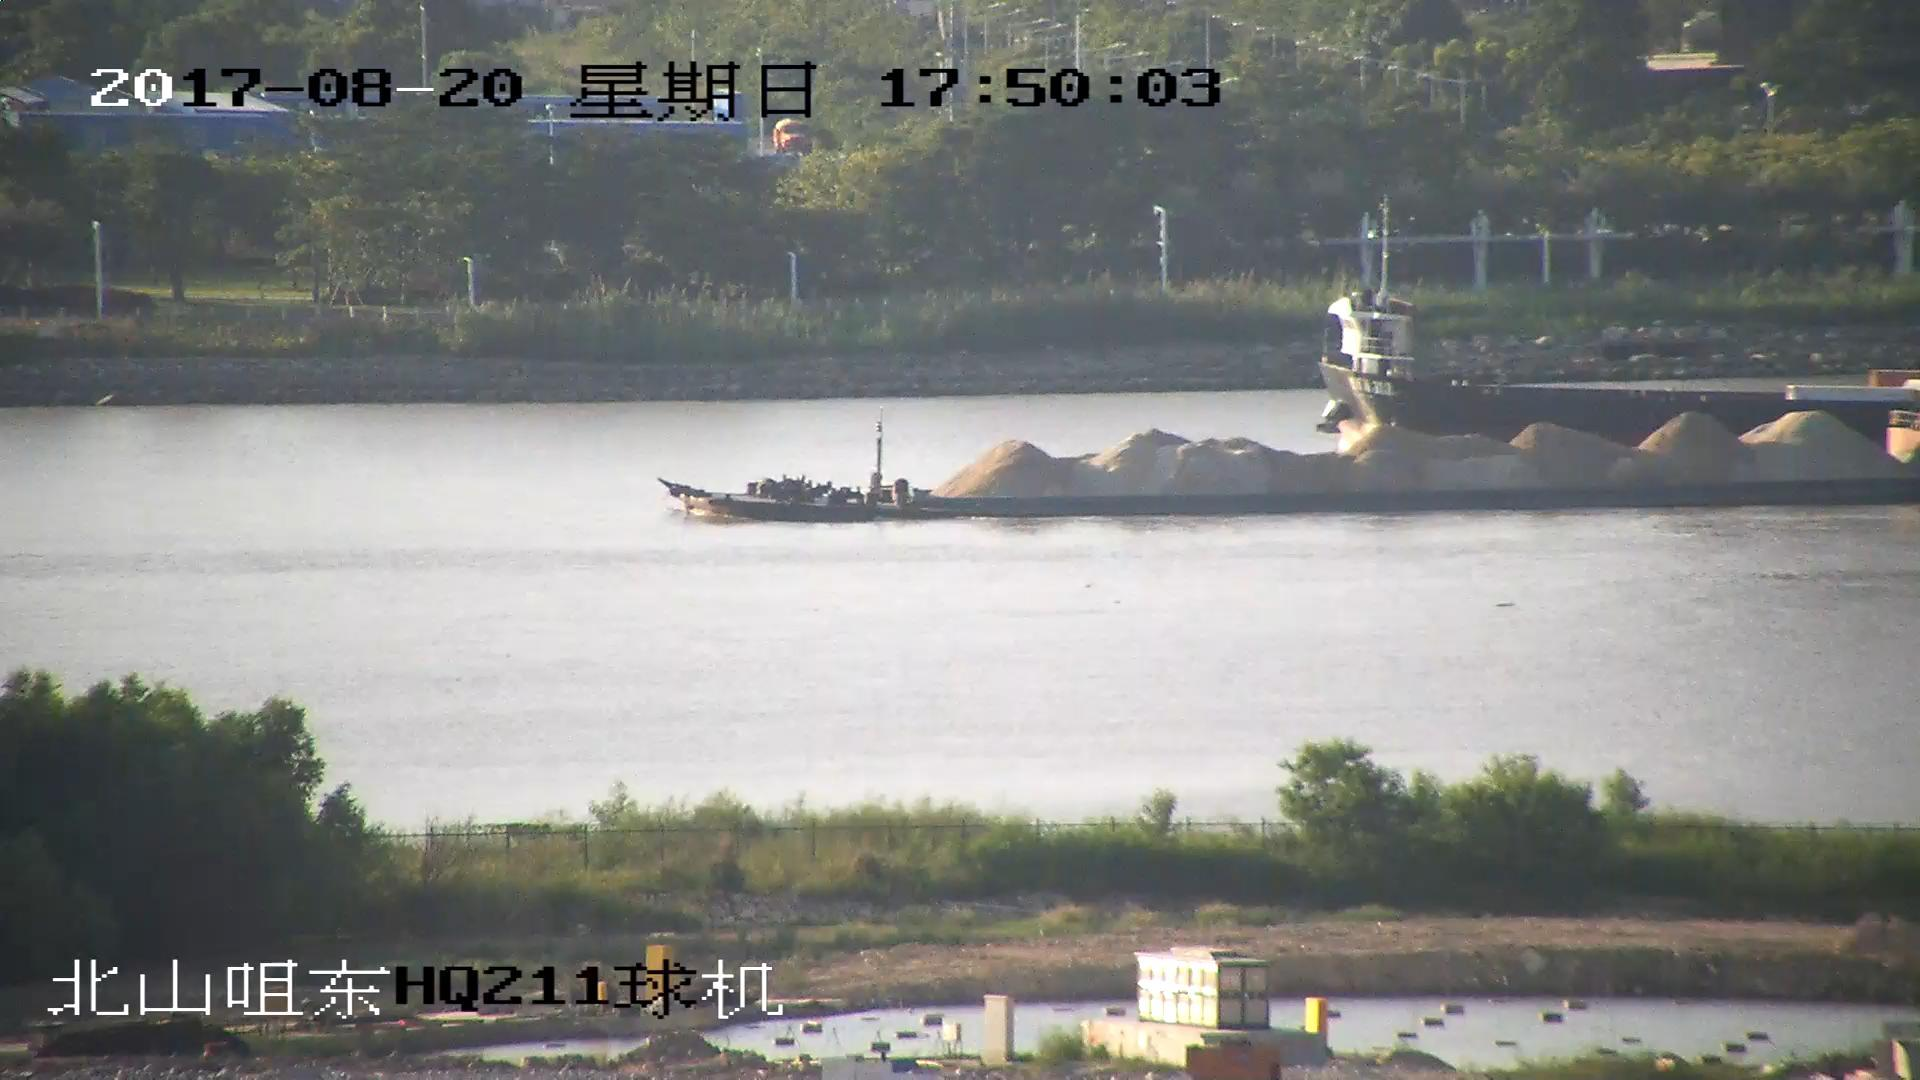Ship: (1319, 206, 1920, 440), (658, 423, 1920, 520)
